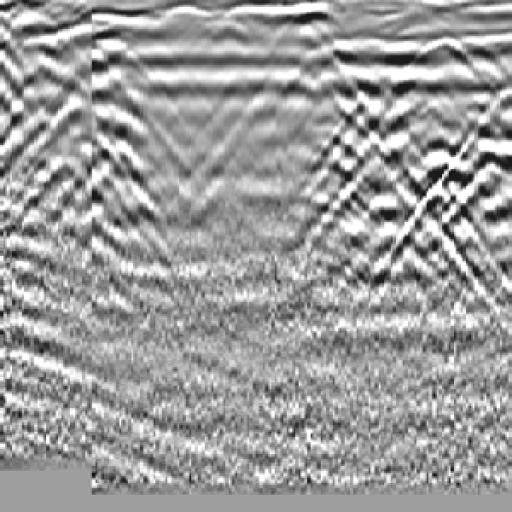non-metallic: (325, 31, 512, 247), (25, 20, 188, 245)
